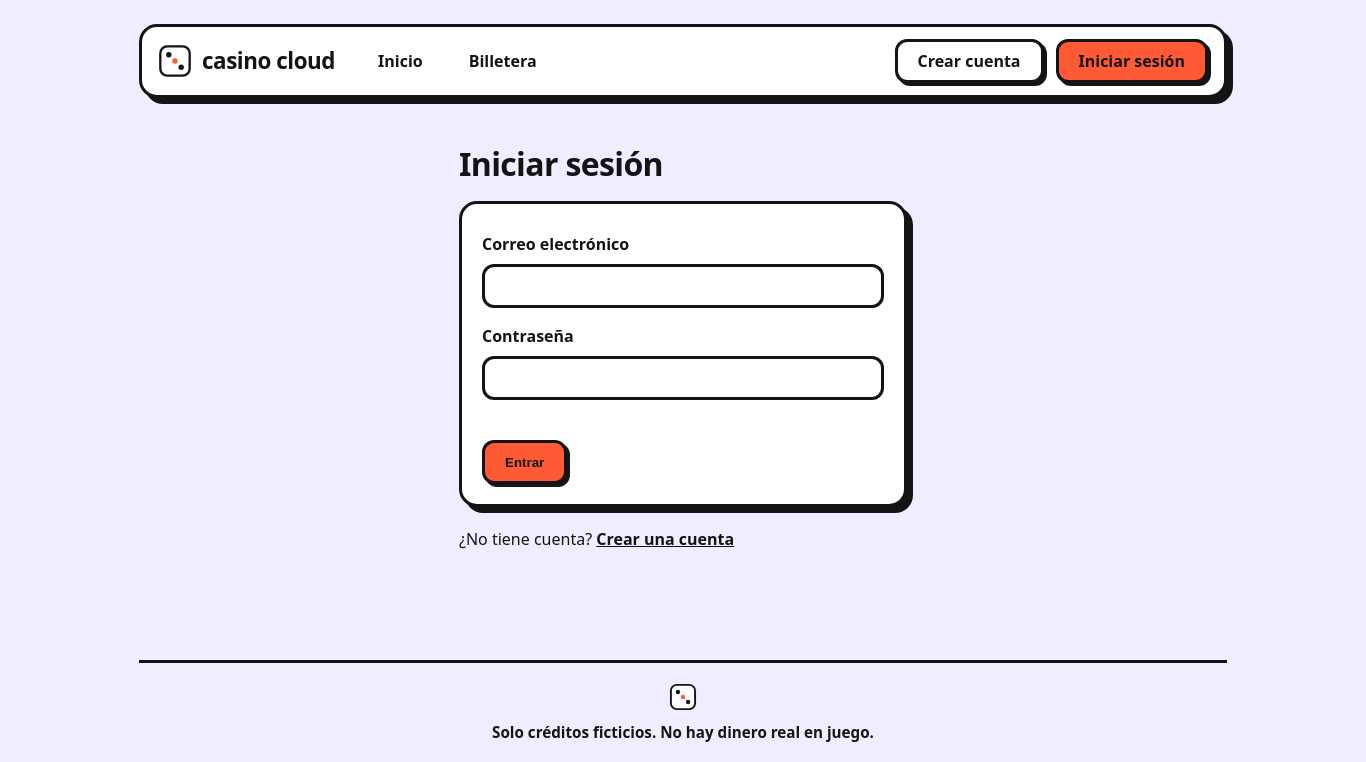
LoginPage › logs in, keeps the session and goes to the lobby
The image size is (1366, 762).
In the field labelled "Correo electrónico": point(683, 286) x1=482 y1=264 x2=884 y2=308, type "Ana@Casino.test "
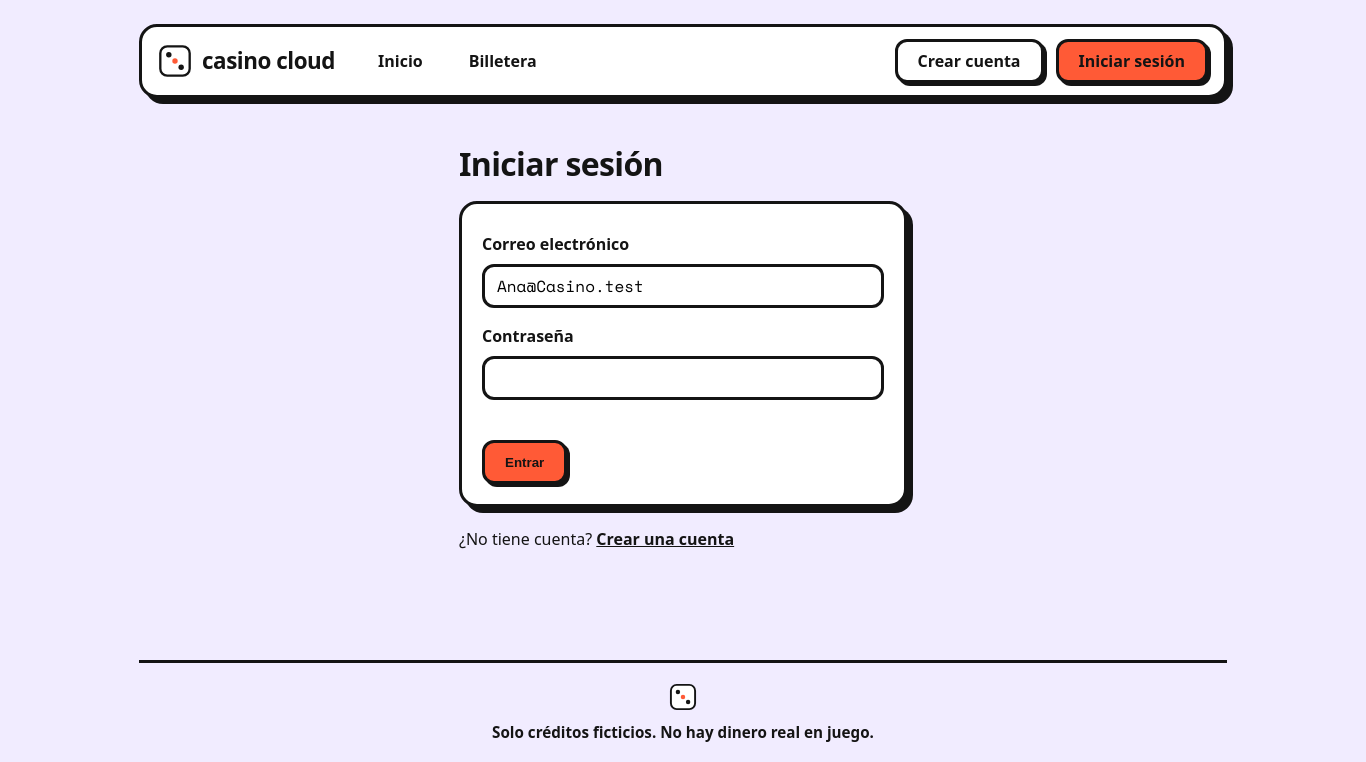
In the password field labelled "Contraseña": point(683, 378) x1=482 y1=356 x2=884 y2=400, type "password123"
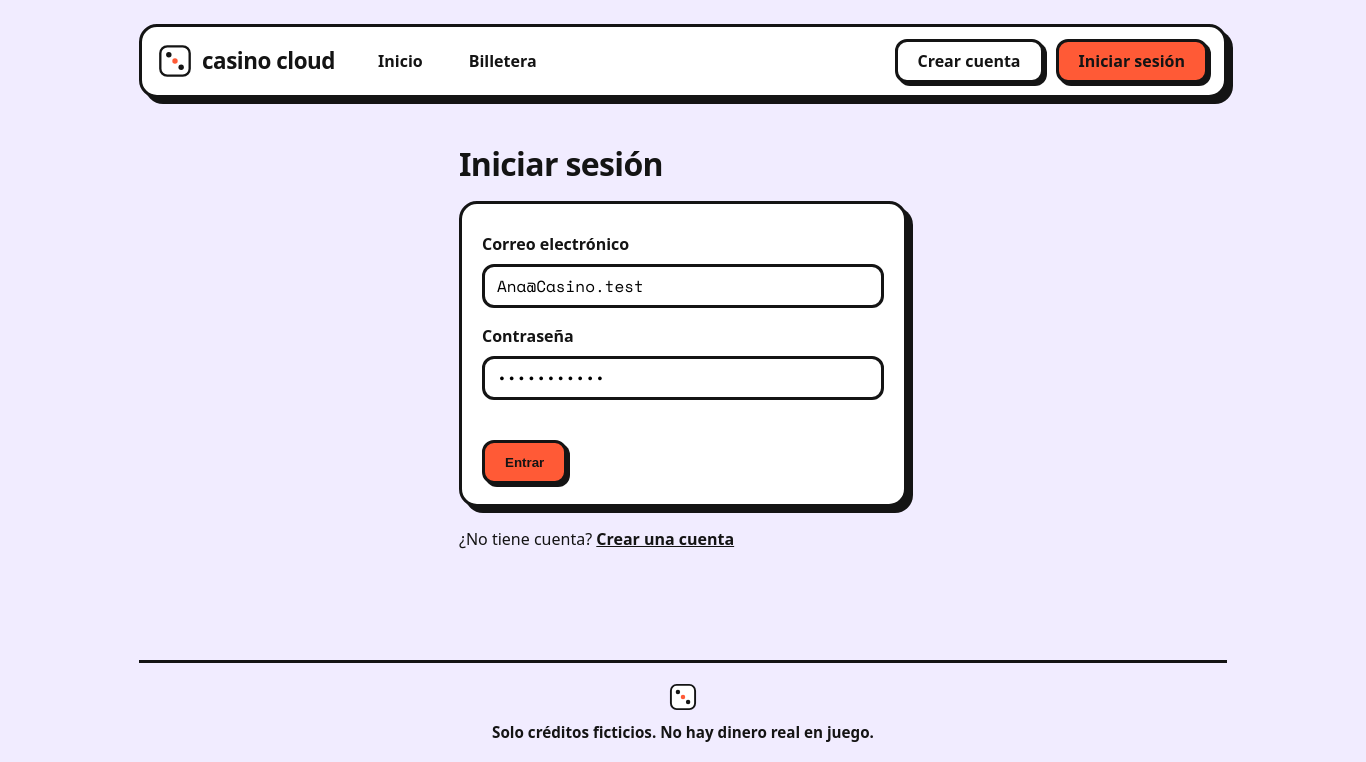
Click the button "Entrar": point(525, 462) x1=482 y1=440 x2=567 y2=484
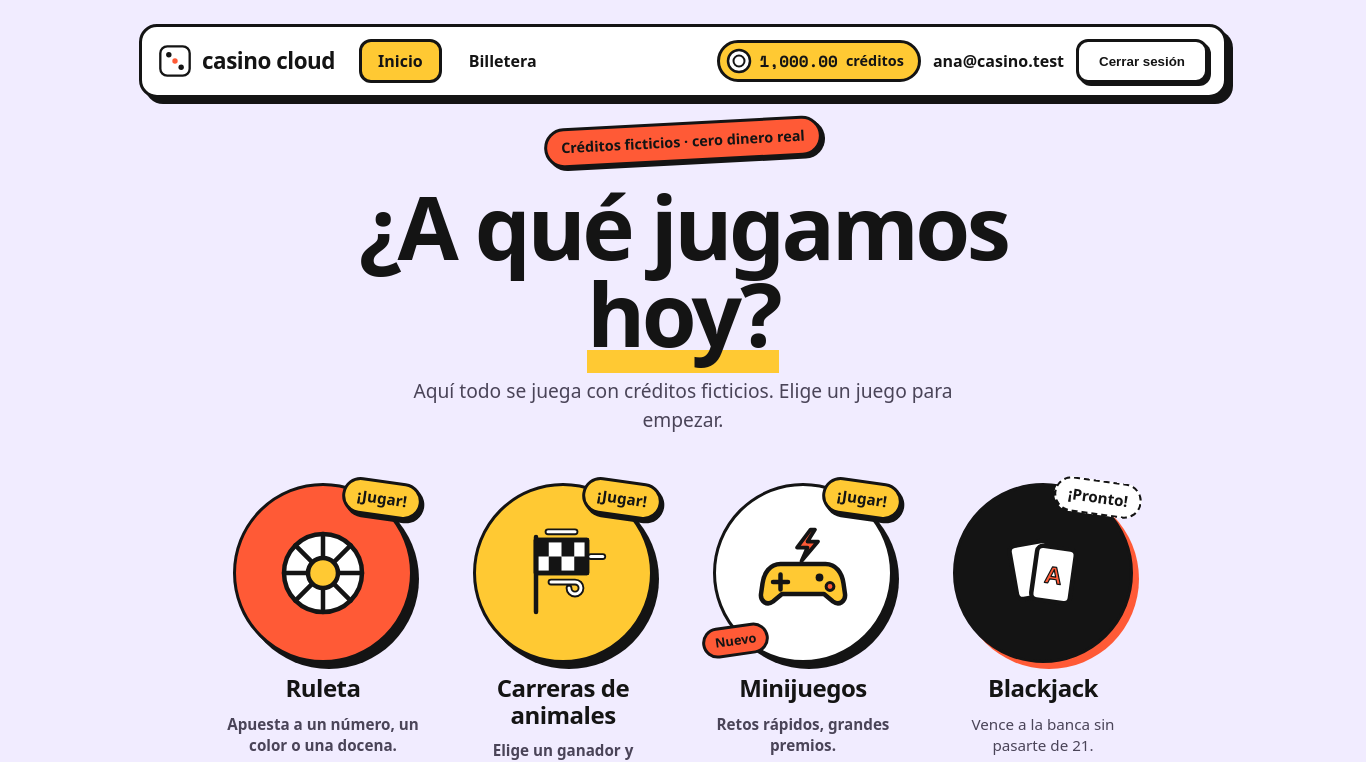
Expected: the heading "¿A qué jugamos hoy?" is shown, x1=359 y1=165 x2=1007 y2=373
Expected: the text "ana@casino.test" is shown, x1=933 y1=49 x2=1064 y2=73
Expected: the button "Cerrar sesión" is shown, x1=1076 y1=39 x2=1208 y2=83
